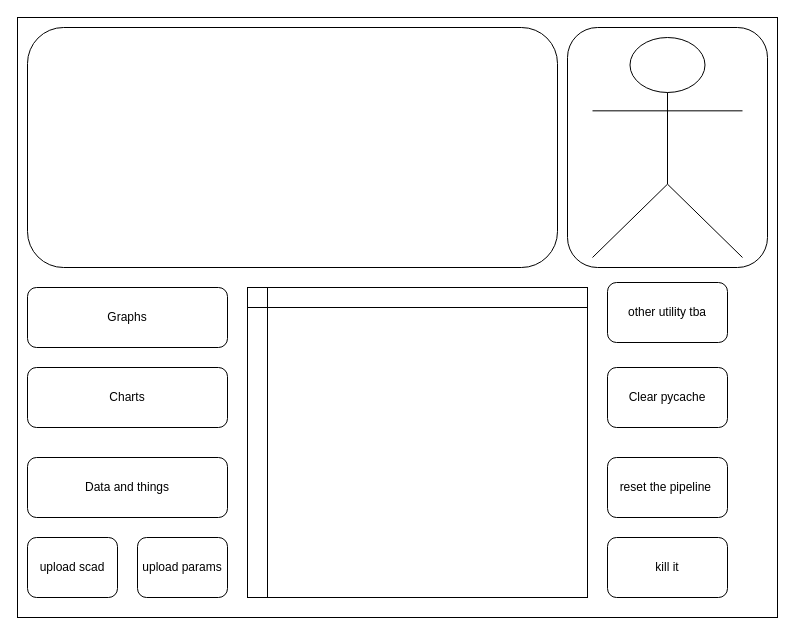
This 795x635 diagram has some shape labels left out. Each missing label, with the box of its shape:
Part Preview: (592, 36, 742, 258)
Scrolling wall of text telling you where we are at in the process: (26, 26, 558, 268)
Values that you can edit for the run, and explinations on what each does: (246, 286, 588, 598)
